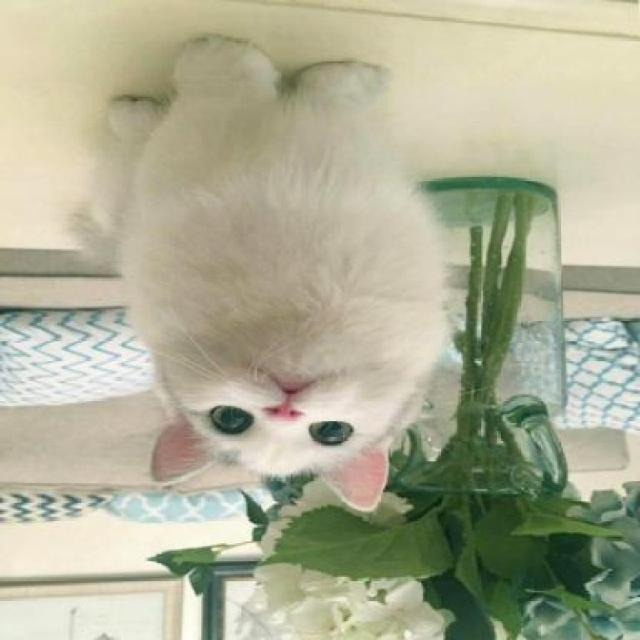cat: (117, 44, 455, 511)
